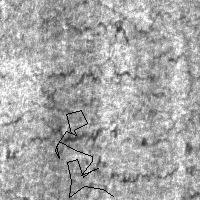crazing: (1, 65, 172, 156), (38, 9, 188, 84), (42, 124, 183, 184), (55, 110, 113, 197)
